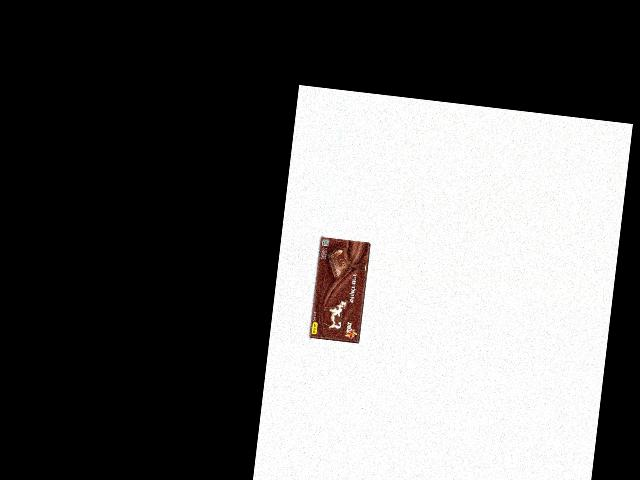chocolate: (308, 237, 371, 346)
